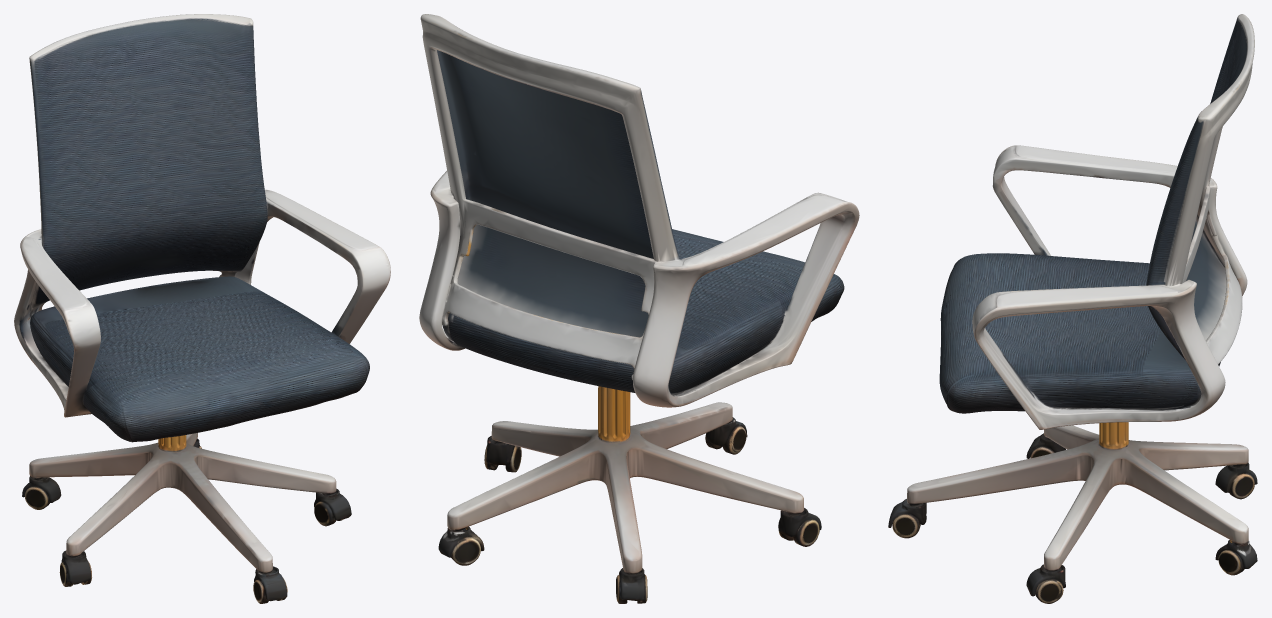
File: chair.glb
3 views of the same model, side by side, from view 1: azimuth 30°, elevation 25°; view 2: azimuth 150°, elevation 25°; view 3: azimuth 270°, elevation 25° (orthographic). The views are drawn at different scales.
Visible parts, largest first — view 1: node_0; view 2: node_0; view 3: node_0.
Part boxes in pixels (left/top/right/bottom): node_0: left=14, top=14, right=390, bottom=603; node_0: left=419, top=14, right=859, bottom=603; node_0: left=888, top=14, right=1257, bottom=603.
Size of the model in its own units: 0.6964 by 0.9706 by 0.6705.
1 material, 1 textured.
